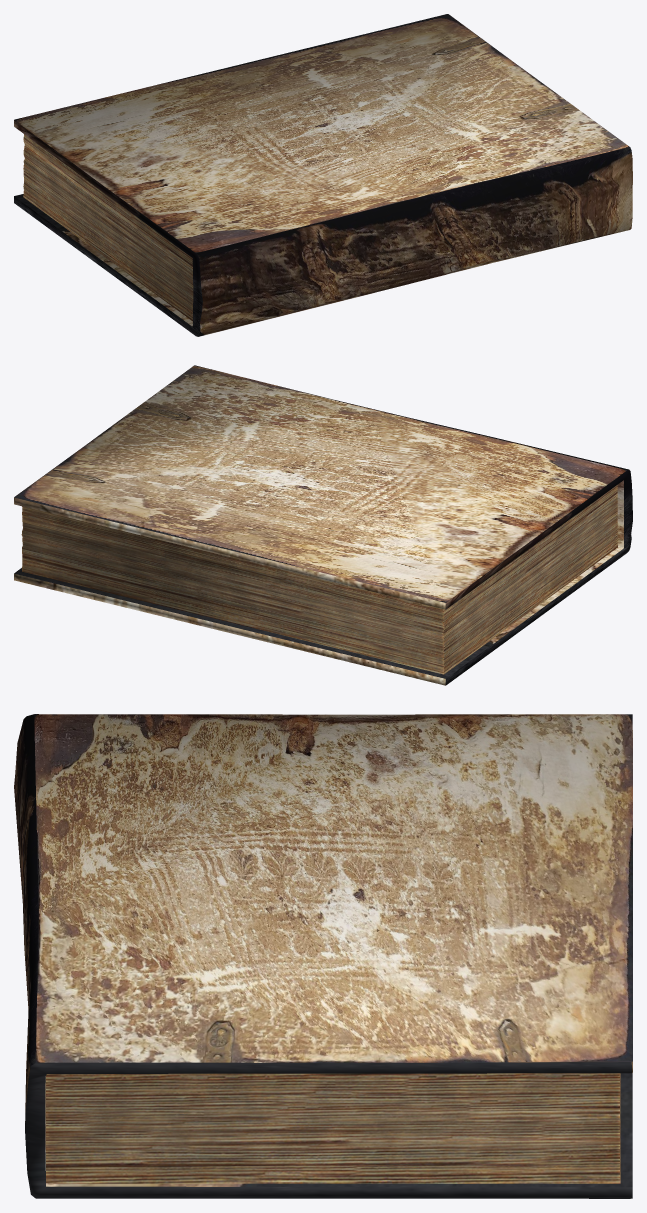
The model's file is Malleus Maleficarum.fbx.
3 renders of one model, top to bottom at view 1: azimuth 30°, elevation 25°; view 2: azimuth 150°, elevation 25°; view 3: azimuth 270°, elevation 25°, orthographic. The views are drawn at different scales.
Visible parts, largest first — view 1: Old Book-Freepoly.org; view 2: Old Book-Freepoly.org; view 3: Old Book-Freepoly.org.
Boxes of the visible parts, x1,y1,x2,y2 form: Old Book-Freepoly.org: [14, 14, 632, 336]; Old Book-Freepoly.org: [14, 365, 632, 685]; Old Book-Freepoly.org: [14, 714, 632, 1198].
Size of the model in its own units: 21.81 by 4.01 by 16.37.
